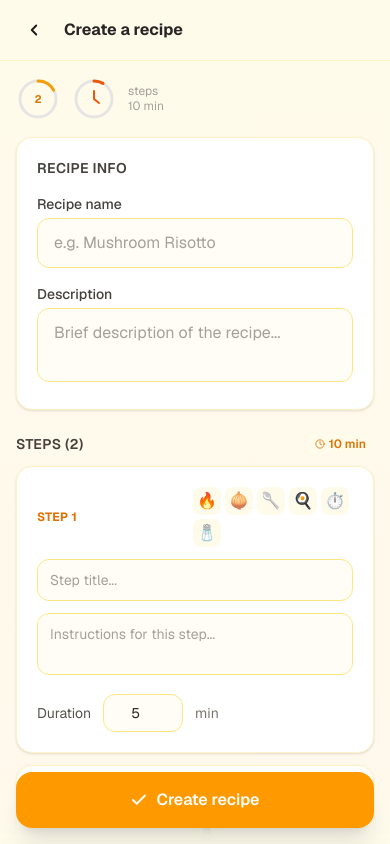
it: RecipeForm › shows validation error when submitting with empty title
Click the button "Create recipe" at coordinates (195, 800), box [16,772,374,828]
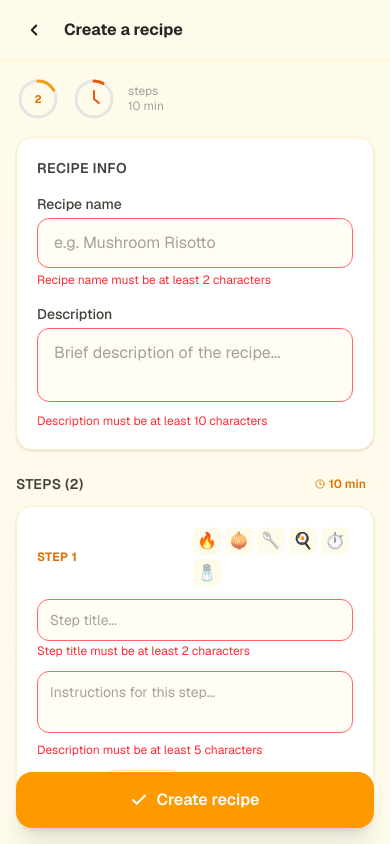
Result: the message "Recipe name must be at least 2 characters" is shown at [37,272,271,288]
